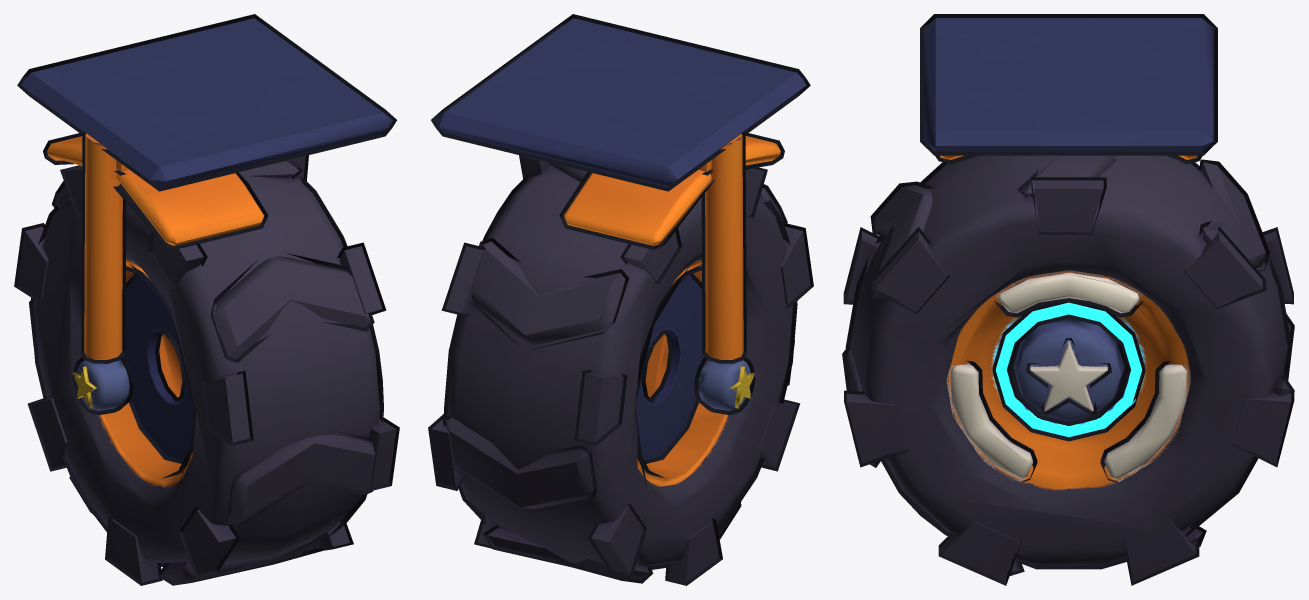
The model's file is R4M_Wheel_LOD1.glb.
3 views of the same model, side by side, from view 1: azimuth 30°, elevation 25°; view 2: azimuth 150°, elevation 25°; view 3: azimuth 270°, elevation 25° (orthographic). The views are drawn at different scales.
Parts seen in each view (by area): view 1: R4M_Wheel_LOD1; view 2: R4M_Wheel_LOD1; view 3: R4M_Wheel_LOD1.
Part boxes in pixels (box(x1,y1,x2,y2)): R4M_Wheel_LOD1: box(14, 14, 399, 585); R4M_Wheel_LOD1: box(428, 14, 813, 585); R4M_Wheel_LOD1: box(842, 14, 1294, 585).
Size of the model in its own units: 0.5141 by 0.9106 by 0.7816.
Materials: 2 (1 with a texture image).
